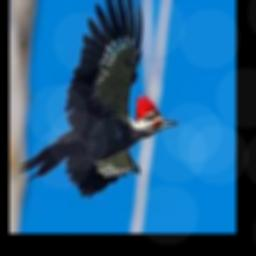Woodpecker: (18, 0, 177, 196)
